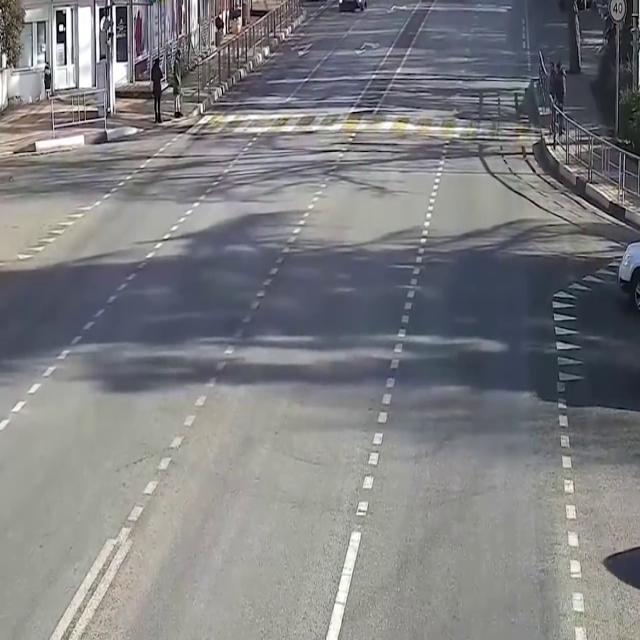noaccident: (215, 0, 640, 602)
